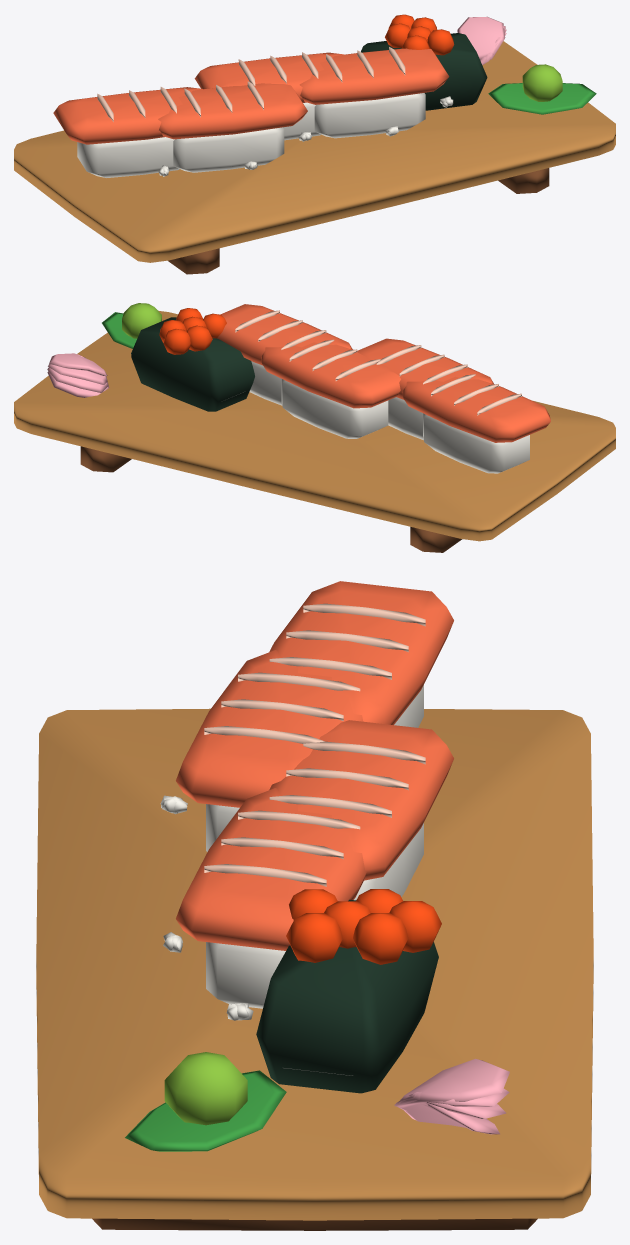
3 views of the same model, one above another, from view 1: azimuth 30°, elevation 25°; view 2: azimuth 150°, elevation 25°; view 3: azimuth 270°, elevation 25° (orthographic). The views are drawn at different scales.
Visible parts, largest first — view 1: board, salmon, rice, gunkan_nori, salmon_fat, shiso, ikura, feet, ginger, wasabi, rice_grains; view 2: board, salmon, rice, gunkan_nori, salmon_fat, ikura, ginger, feet, wasabi, shiso; view 3: board, salmon, gunkan_nori, salmon_fat, ikura, rice, ginger, shiso, feet, wasabi, rice_grains.
Part boxes in pixels (x1=…): board: x1=14, y1=41, x2=615, y2=262; salmon: x1=53, y1=48, x2=449, y2=144; rice: x1=77, y1=93, x2=425, y2=177; gunkan_nori: x1=361, y1=33, x2=487, y2=110; salmon_fat: x1=97, y1=47, x2=405, y2=121; shiso: x1=488, y1=83, x2=596, y2=114; ikura: x1=385, y1=14, x2=454, y2=55; feet: x1=168, y1=168, x2=549, y2=274; ginger: x1=457, y1=16, x2=506, y2=64; wasabi: x1=522, y1=64, x2=562, y2=101; rice_grains: x1=158, y1=96, x2=453, y2=176; board: x1=14, y1=310, x2=615, y2=541; salmon: x1=217, y1=304, x2=550, y2=442; rice: x1=228, y1=361, x2=529, y2=473; gunkan_nori: x1=131, y1=317, x2=254, y2=411; salmon_fat: x1=235, y1=310, x2=521, y2=415; ikura: x1=159, y1=308, x2=226, y2=354; ginger: x1=47, y1=353, x2=108, y2=397; feet: x1=80, y1=446, x2=462, y2=552; wasabi: x1=122, y1=303, x2=161, y2=338; shiso: x1=102, y1=312, x2=136, y2=348; board: x1=36, y1=708, x2=593, y2=1220; salmon: x1=176, y1=581, x2=453, y2=950; gunkan_nori: x1=256, y1=899, x2=438, y2=1093; salmon_fat: x1=204, y1=603, x2=425, y2=886; ikura: x1=286, y1=889, x2=441, y2=964; rice: x1=206, y1=685, x2=423, y2=1075; ginger: x1=394, y1=1058, x2=509, y2=1134; shiso: x1=125, y1=1070, x2=286, y2=1151; feet: x1=92, y1=1218, x2=537, y2=1230; wasabi: x1=164, y1=1052, x2=247, y2=1125; rice_grains: x1=160, y1=795, x2=253, y2=1020.
Bounding box in the file's own units: 0.2052 × 0.055 × 0.1024.
